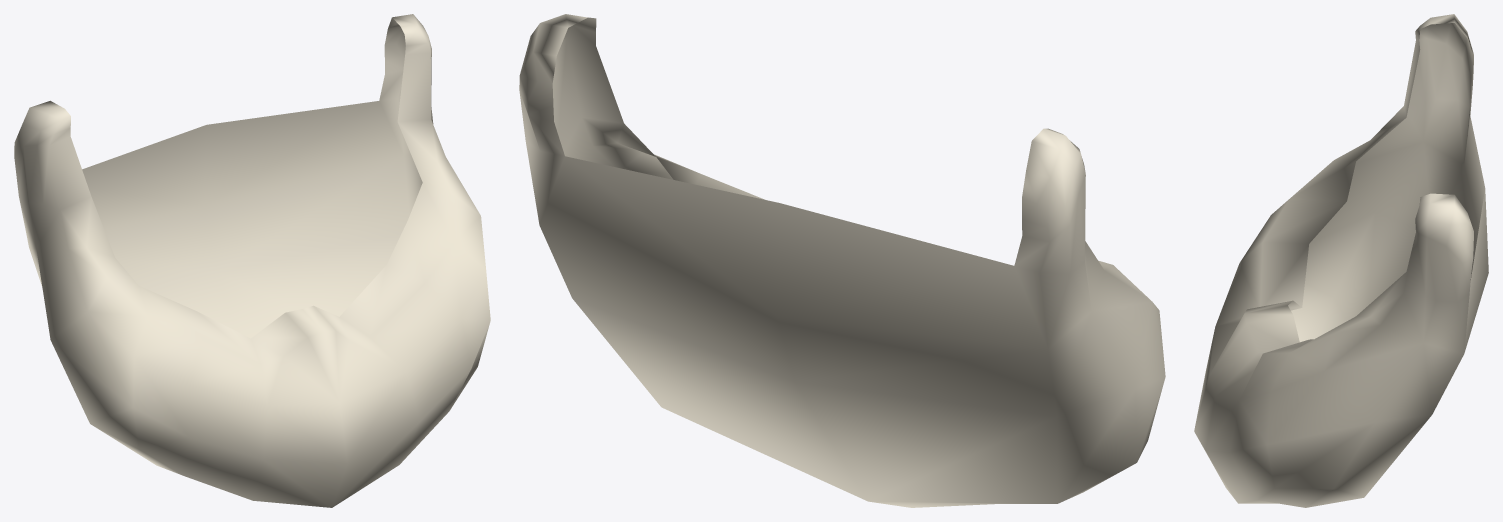
File: Mustache_22.fbx
3 views of the same model, side by side, from view 1: azimuth 30°, elevation 25°; view 2: azimuth 150°, elevation 25°; view 3: azimuth 270°, elevation 25° (orthographic). The views are drawn at different scales.
Parts seen in each view (by area): view 1: Mustache_22; view 2: Mustache_22; view 3: Mustache_22.
Boxes of the visible parts, x1=… form: Mustache_22: x1=14, y1=14, x2=490, y2=507; Mustache_22: x1=519, y1=14, x2=1165, y2=507; Mustache_22: x1=1194, y1=14, x2=1488, y2=507.
Size of the model in its own units: 54 by 46 by 31.97.
